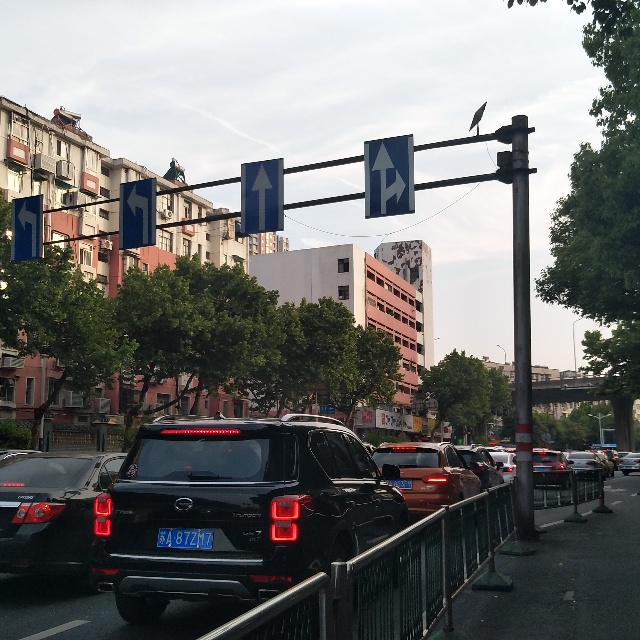left: (117, 182, 158, 244), (13, 196, 44, 258)
straight: (240, 162, 286, 240)
